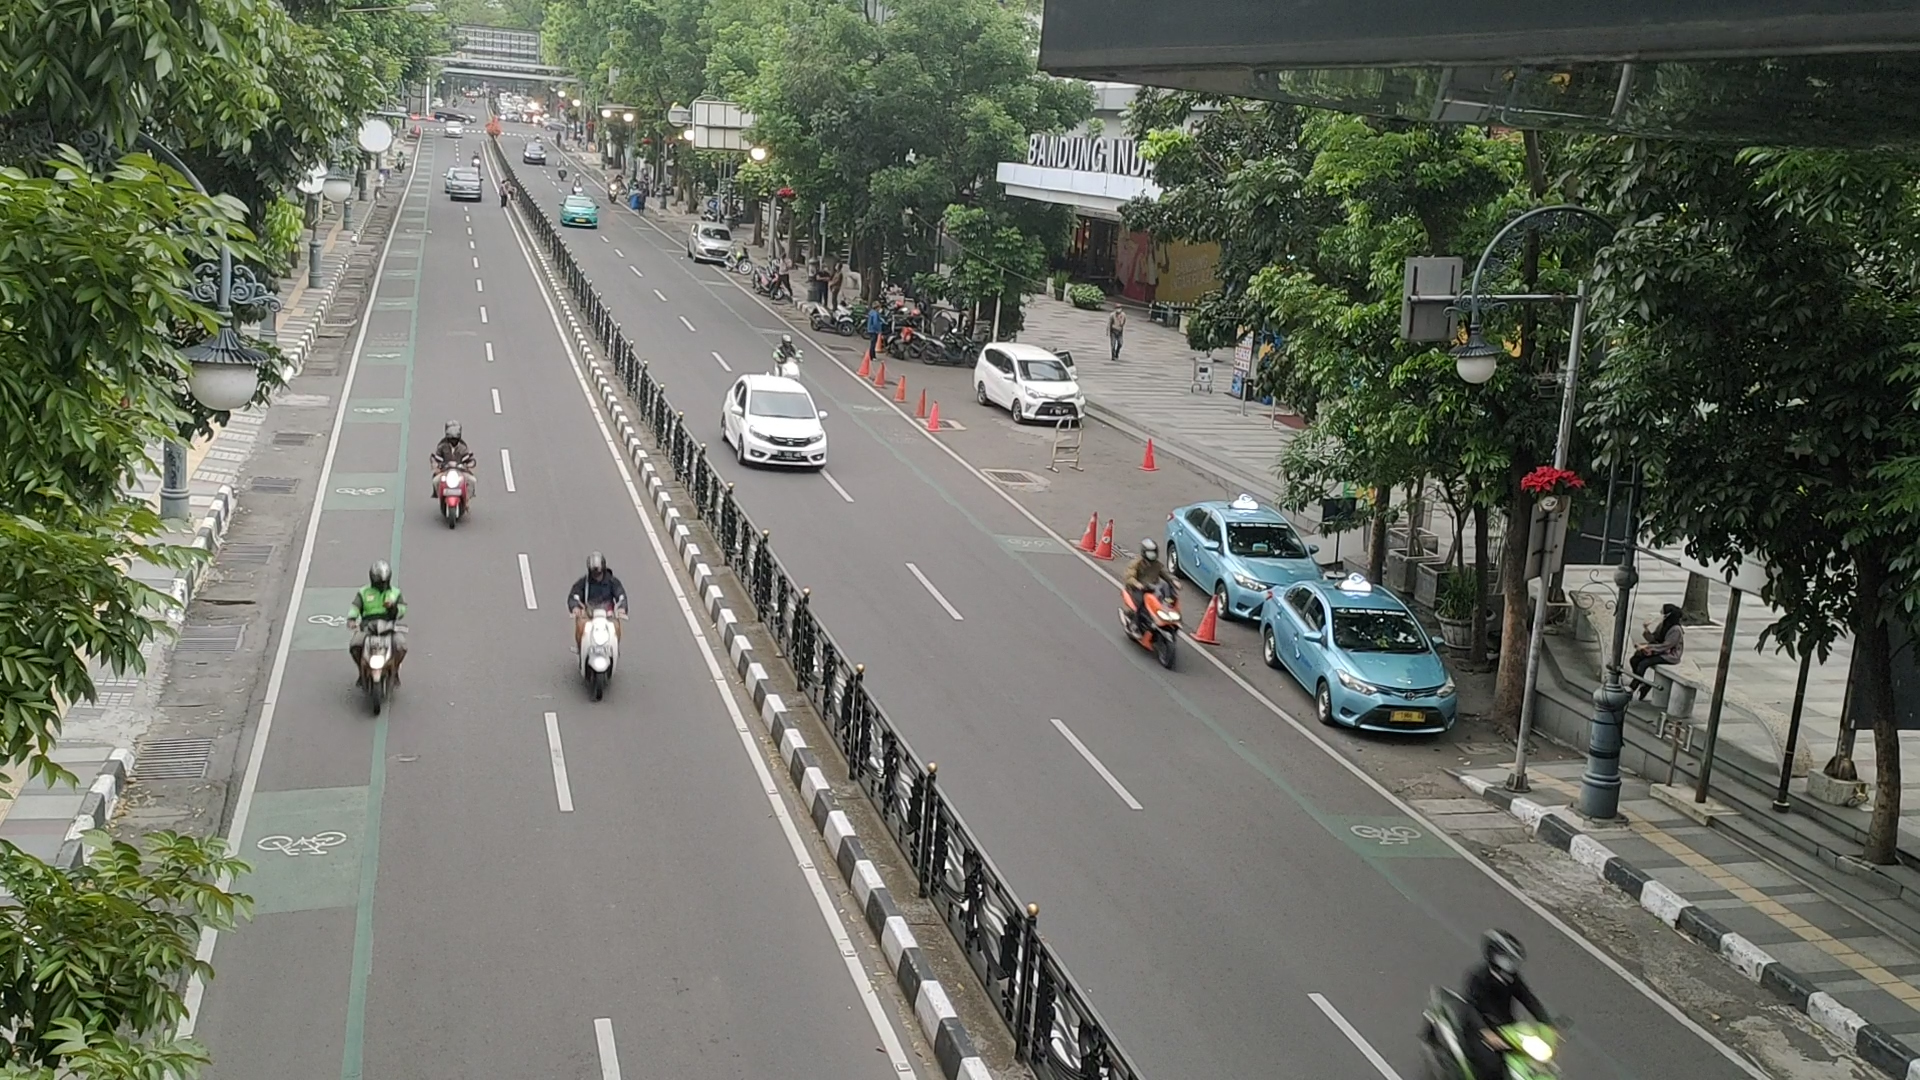mobil: (1317, 605, 1460, 744), (738, 381, 828, 477), (1009, 355, 1087, 433)
motor: (343, 560, 409, 713), (1120, 535, 1189, 676), (568, 549, 629, 703), (429, 418, 479, 533)
